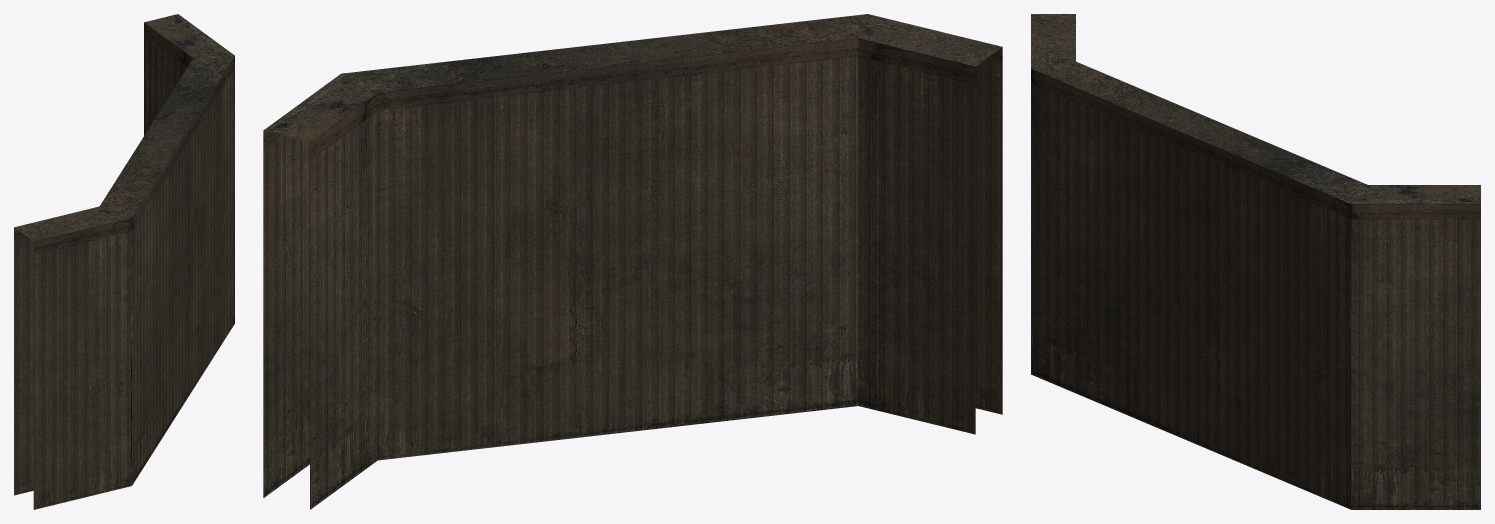
Rendered from wall_rx_1_m1a_1.dae.
3 views of the same model, side by side, from view 1: azimuth 30°, elevation 25°; view 2: azimuth 150°, elevation 25°; view 3: azimuth 270°, elevation 25° (orthographic). The views are drawn at different scales.
Visible parts, largest first — view 1: wall_rx_1_m1a_1; view 2: wall_rx_1_m1a_1; view 3: wall_rx_1_m1a_1.
Boxes of the visible parts, bbox=[...] form: wall_rx_1_m1a_1: bbox=[14, 14, 234, 509]; wall_rx_1_m1a_1: bbox=[263, 14, 1002, 509]; wall_rx_1_m1a_1: bbox=[1031, 14, 1480, 509].
Bounding box in the file's own units: 4 × 4 × 3.
2 materials, 2 textured.
